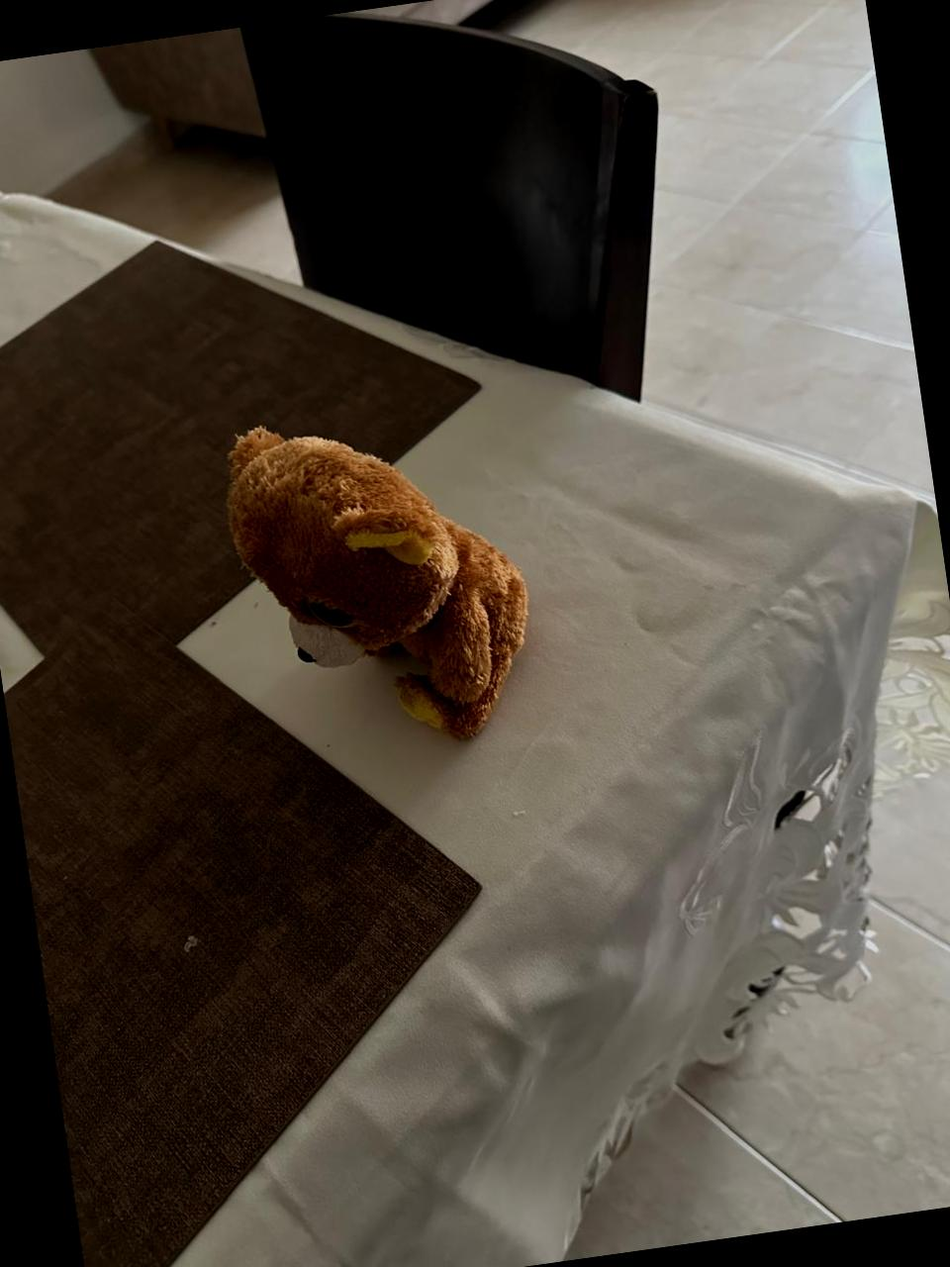peluche_sebastian: (215, 393, 565, 781)
